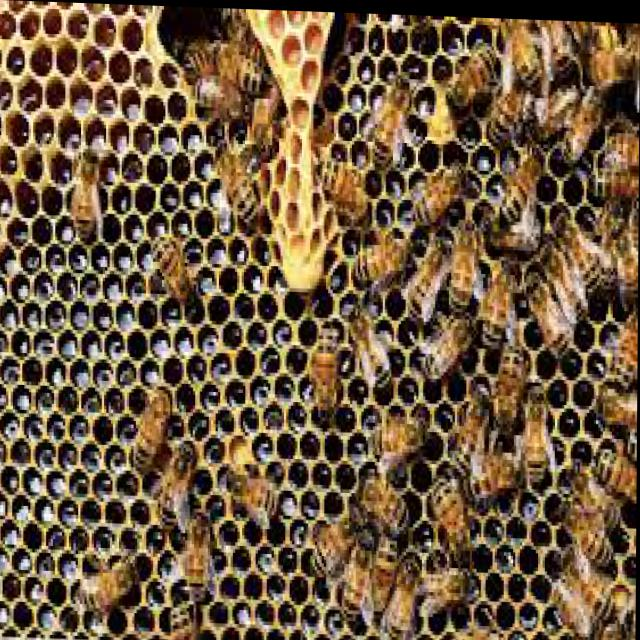Abeille: (348, 219, 423, 298), (364, 66, 416, 170), (204, 143, 266, 228), (314, 494, 370, 582), (149, 231, 203, 312), (69, 134, 109, 242), (223, 460, 289, 525), (77, 552, 144, 614), (504, 142, 549, 231), (522, 378, 558, 489), (451, 195, 485, 310), (129, 387, 177, 464), (412, 152, 467, 215), (184, 503, 223, 588), (432, 473, 477, 544), (374, 408, 428, 467), (163, 429, 193, 535), (589, 131, 637, 197), (454, 379, 485, 479), (312, 326, 343, 420), (396, 544, 425, 639), (483, 256, 514, 342)
